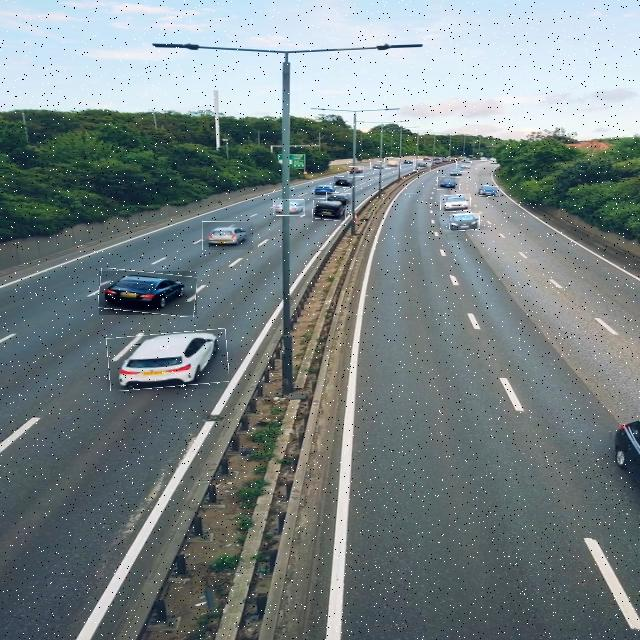Car: (107, 330, 228, 389), (99, 271, 197, 315), (202, 221, 253, 250), (313, 199, 346, 221), (440, 194, 471, 212), (450, 213, 480, 231), (273, 200, 305, 216), (311, 184, 337, 196), (476, 185, 500, 197), (438, 177, 460, 190), (326, 193, 351, 202), (333, 177, 353, 187), (413, 160, 431, 171), (456, 162, 475, 172), (384, 158, 401, 169), (348, 167, 364, 177), (445, 169, 465, 177), (370, 162, 385, 170)
